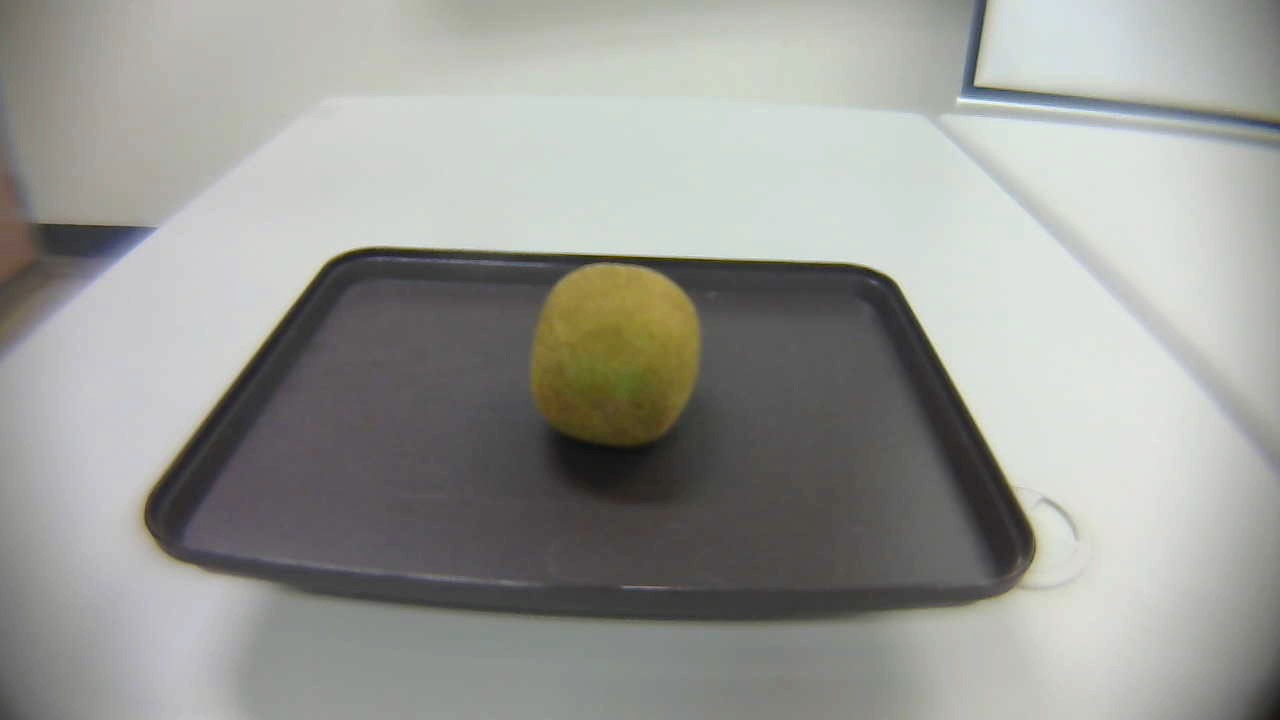kiwi fruit: (515, 256, 725, 469)
